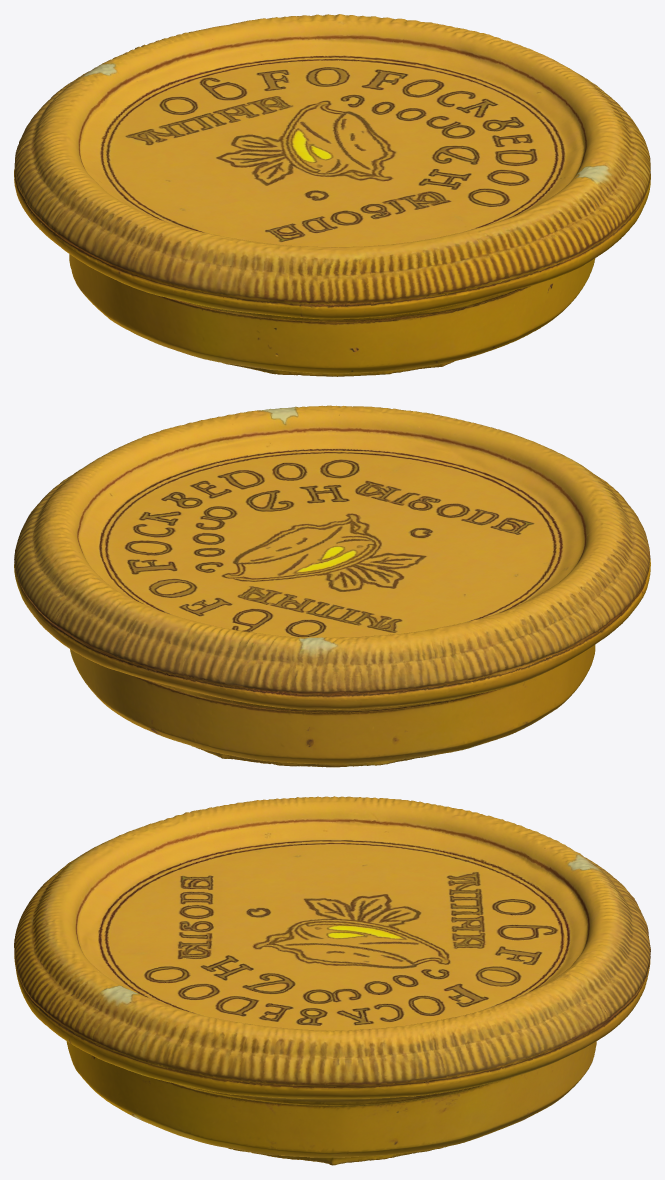
Rendered from cap-draco.glb.
3 renders of one model, top to bottom at view 1: azimuth 30°, elevation 25°; view 2: azimuth 150°, elevation 25°; view 3: azimuth 270°, elevation 25°, orthographic.
Size of the model in its own units: 2 by 0.5452 by 1.99.
Materials: 1 (1 with a texture image).
